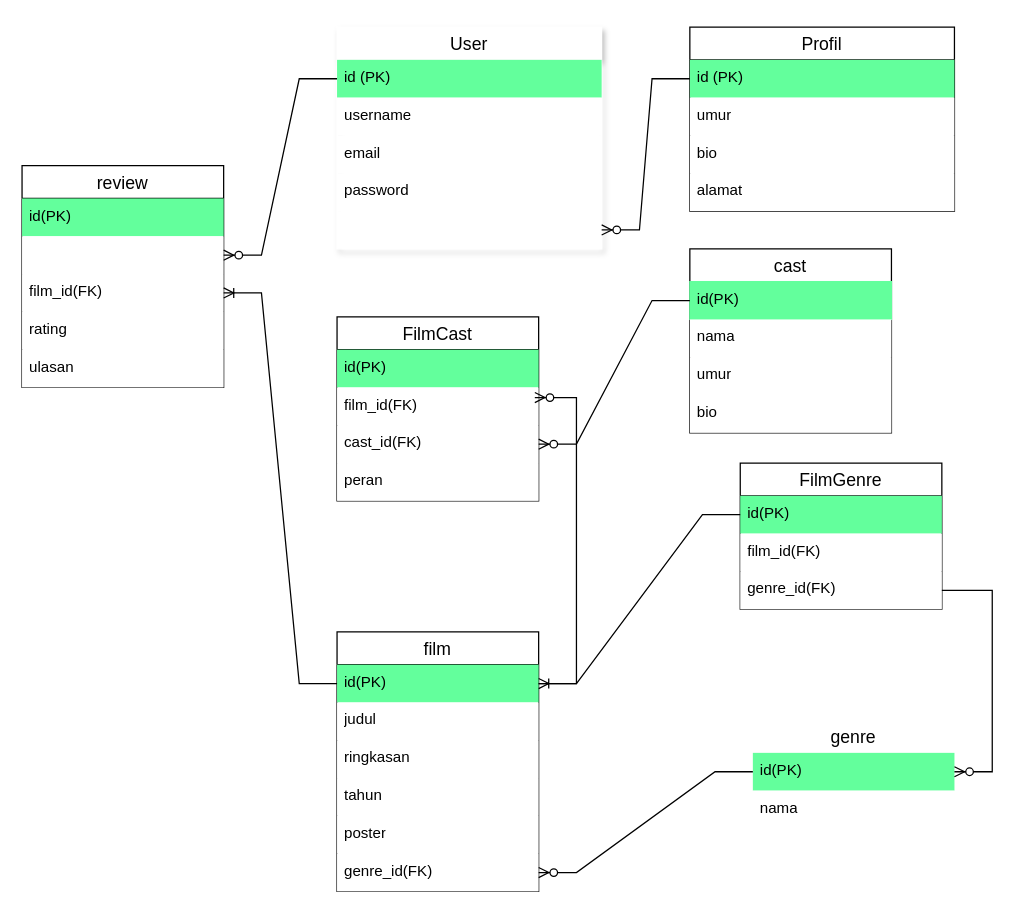
Image size: 1024x917. Some labels were removed from this diagram. The centre of each missing label's shape, as x and y in pixels:
profil_id (FK): the point at 468,229
user_id(FK): the point at 122,254
